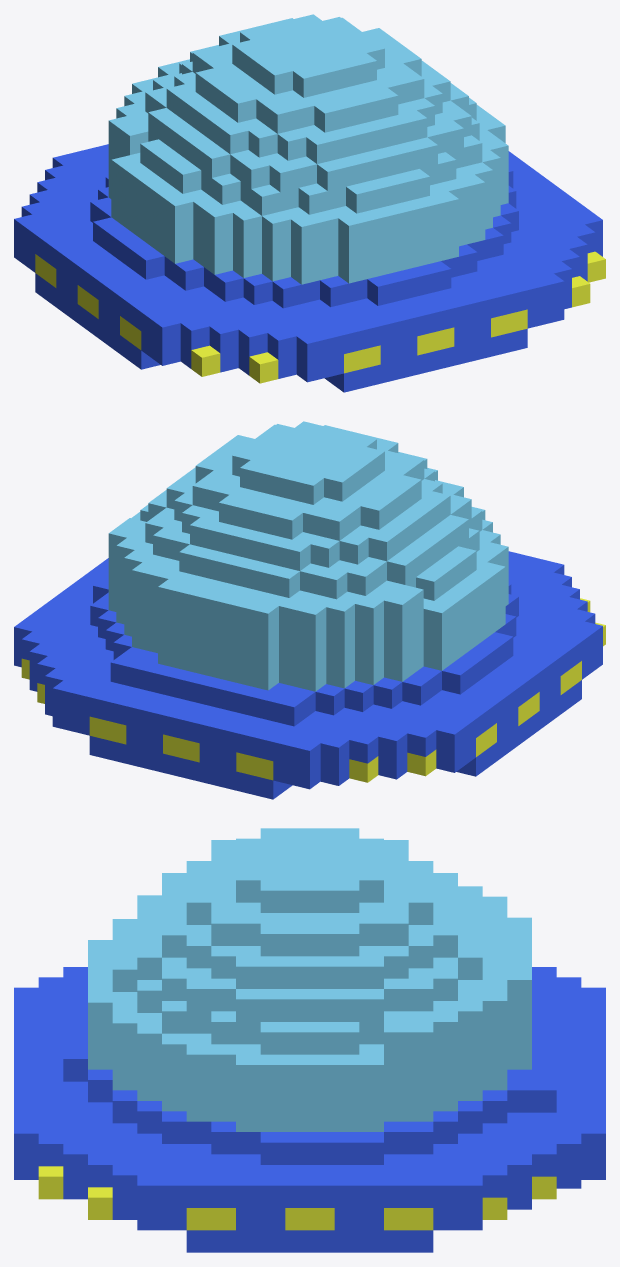
The model's file is spaceship.glb.
3 views of the same model, one above another, from view 1: azimuth 30°, elevation 25°; view 2: azimuth 150°, elevation 25°; view 3: azimuth 270°, elevation 25° (orthographic). The views are drawn at different scales.
Parts seen in each view (by area): view 1: spaceship.vox.002; view 2: spaceship.vox.002; view 3: spaceship.vox.002.
Part boxes in pixels (left/top/right/bottom): spaceship.vox.002: left=14, top=14, right=605, bottom=392; spaceship.vox.002: left=14, top=421, right=605, bottom=799; spaceship.vox.002: left=14, top=828, right=605, bottom=1252.
Size of the model in its own units: 2.4 by 1.5 by 2.4.
Materials: 1 (1 with a texture image).
